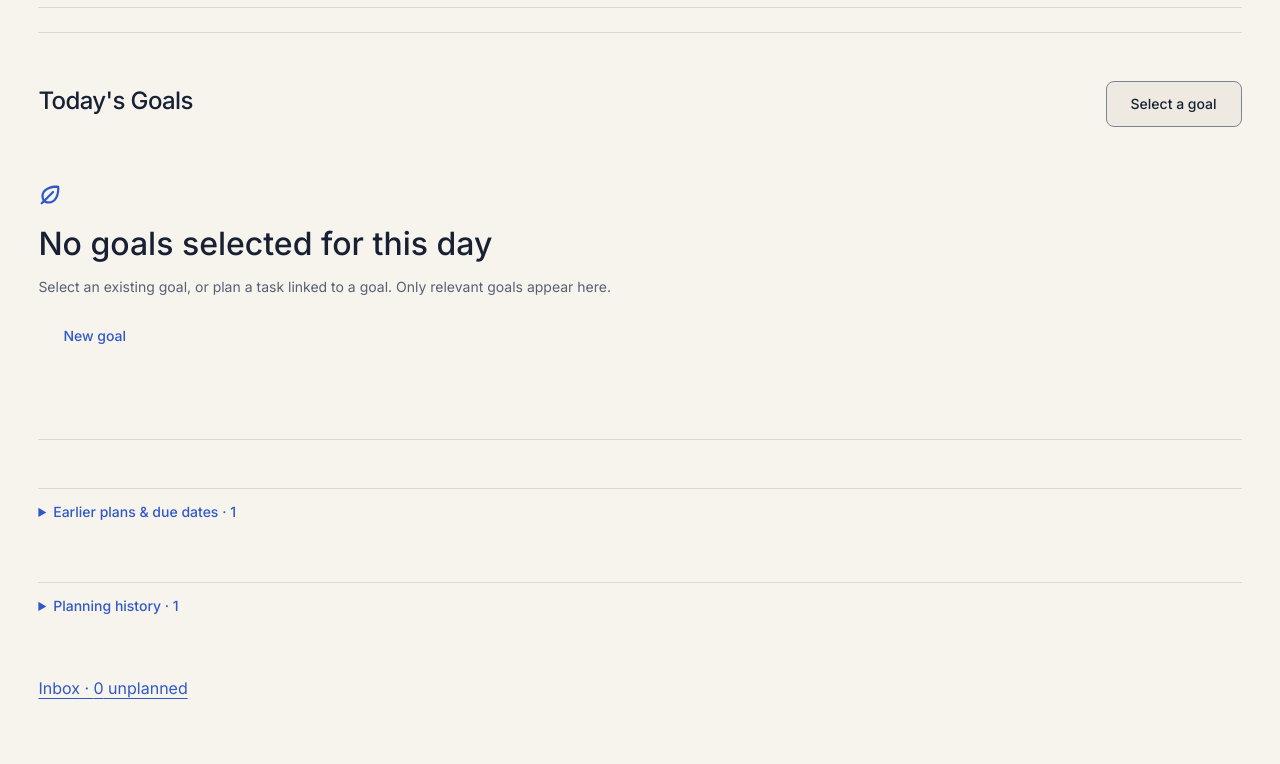
Test: separates intentional work from earlier tasks and keeps changed plans available
(page scrolled)
Click the heading "Earlier plans & due dates · 1" at [145, 511], box [53,503,236,520]
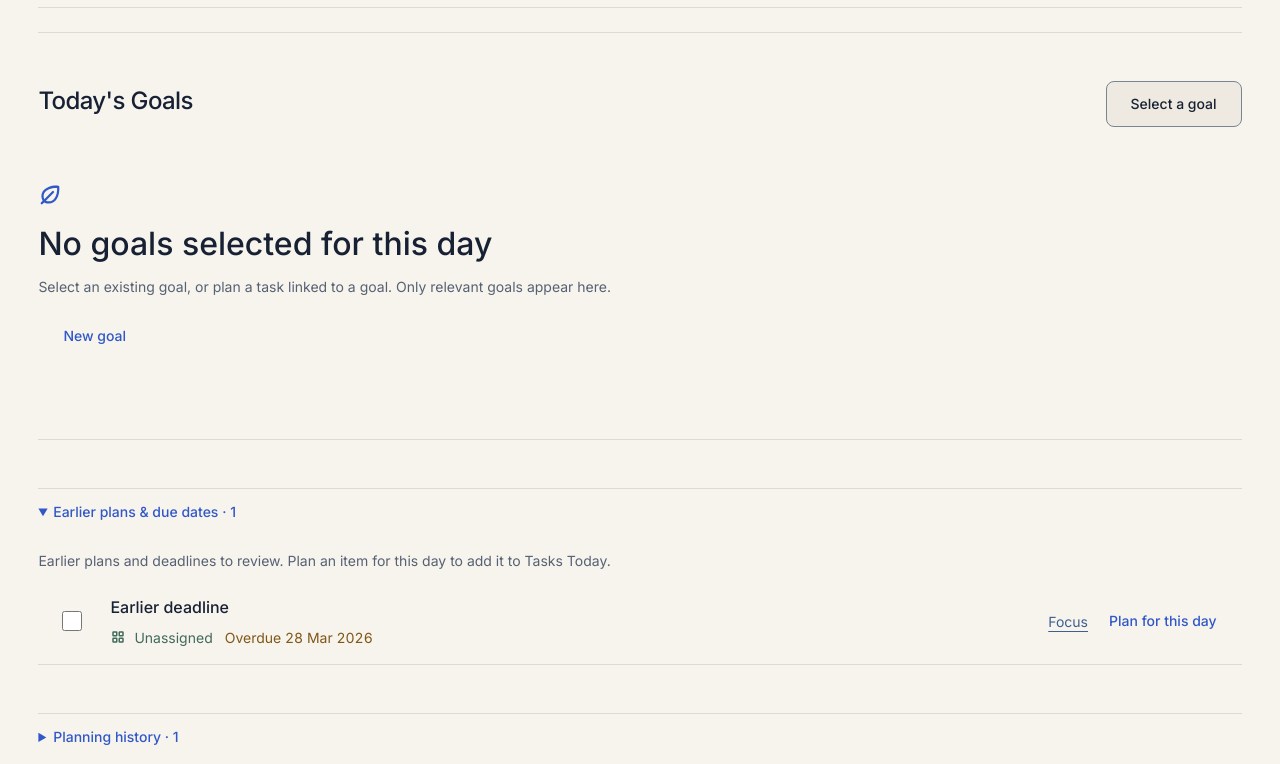
expect the link "Earlier deadline" is shown: met, box [110,597,229,617]
Click the heading "Planning history · 1" at [116, 736], box [53,728,179,745]
(page scrolled)
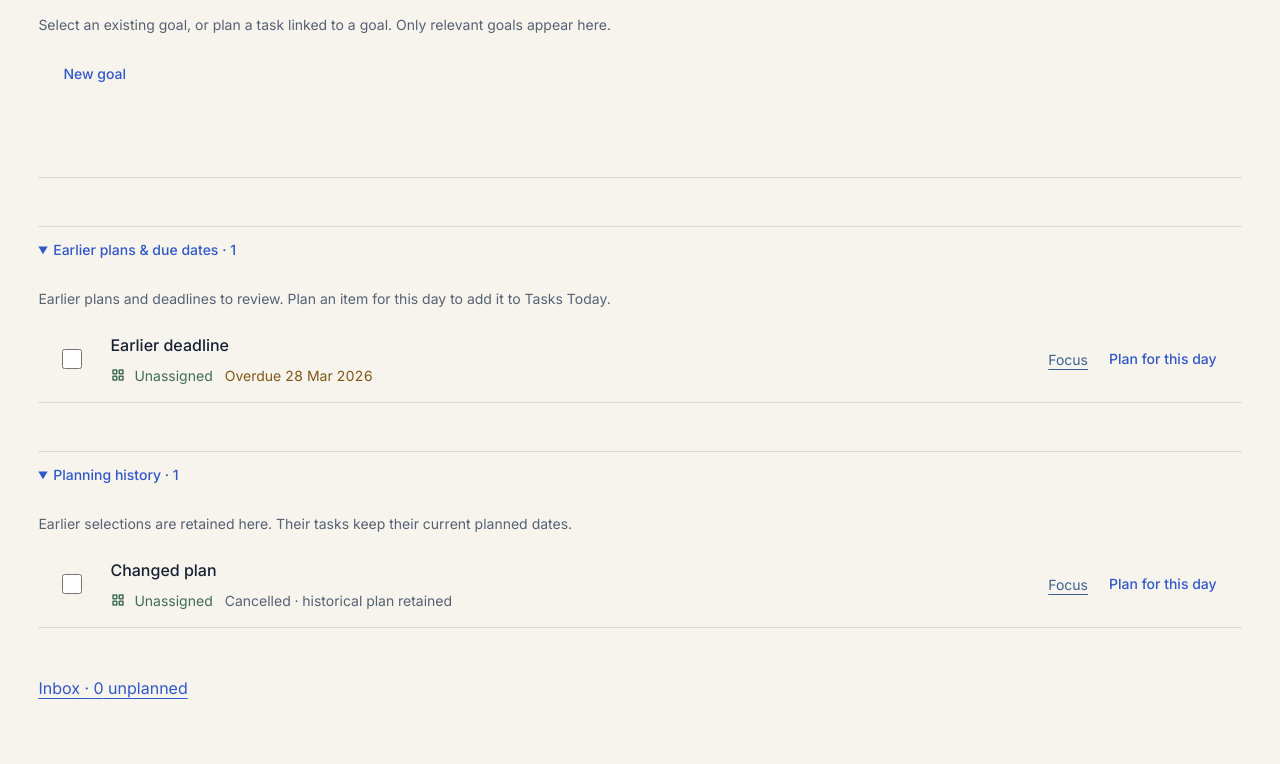
expect the link "Changed plan" is shown: met, box [110,560,217,580]
